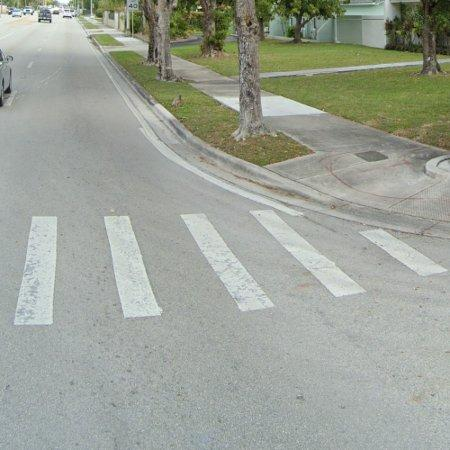crosswalks: (10, 207, 450, 325)
